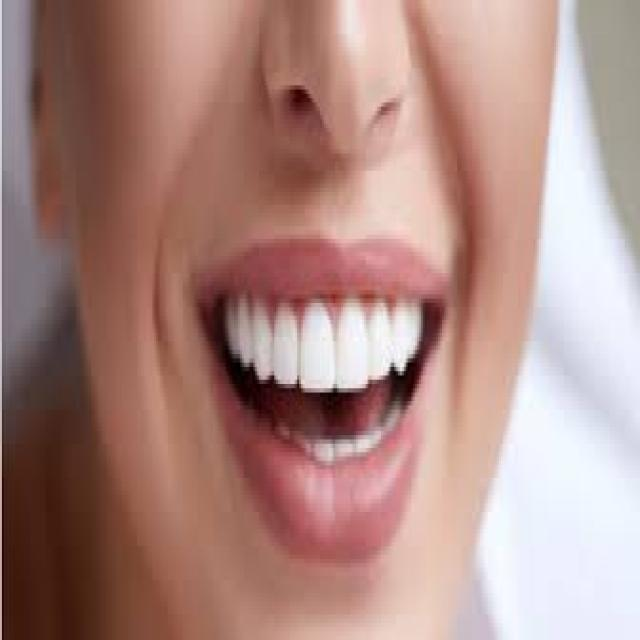tooth: (297, 294, 333, 388), (335, 294, 366, 388), (366, 294, 392, 384), (276, 299, 297, 384), (250, 303, 272, 384), (221, 295, 242, 354), (396, 299, 410, 371), (238, 290, 248, 359), (413, 299, 423, 358)
